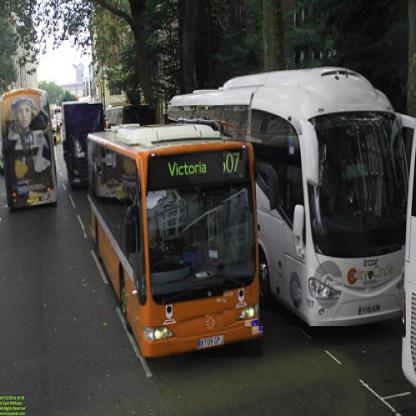bus: (225, 59, 404, 329), (86, 132, 265, 360), (2, 91, 58, 210)
truck: (63, 99, 90, 192)
